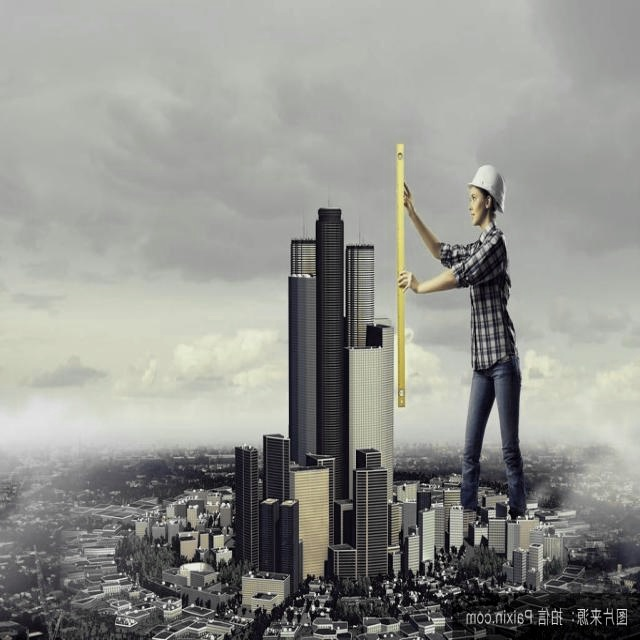Con_Casco: (467, 166, 508, 222)
Sin_Chaleco: (467, 224, 515, 369)
